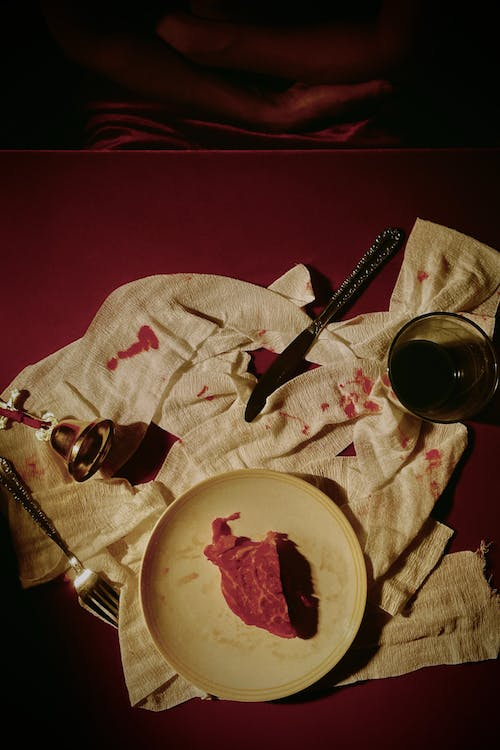blood: (263, 364, 460, 509), (103, 320, 161, 375), (415, 264, 430, 287)
knife: (243, 223, 403, 424)
